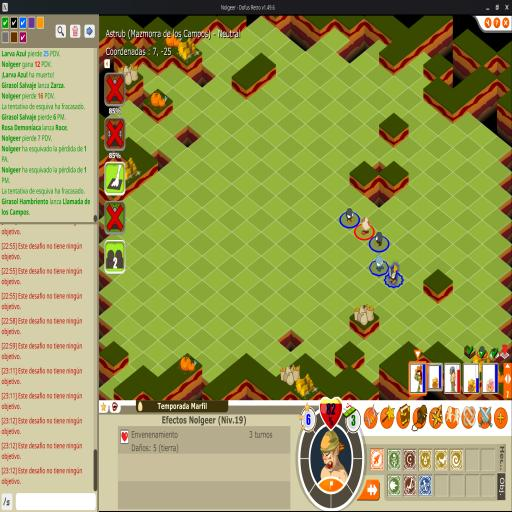Enemigos: (387, 262, 400, 285), (374, 252, 386, 273), (345, 208, 356, 224), (374, 230, 384, 247)
Personaje: (361, 216, 371, 236)
